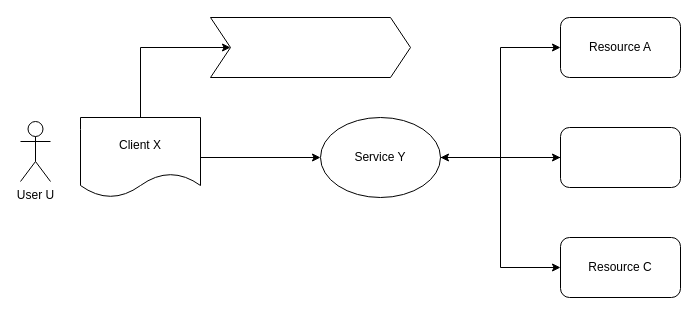
Some shapes in this 698 by 315 pixel diagram are drawn without their labels. Here are the shapes that lost their labels. From the top down, the centre of each, then its label:
At pixel 310 47: "Identity Service Provider Z".
At pixel 620 157: "Resource B".
